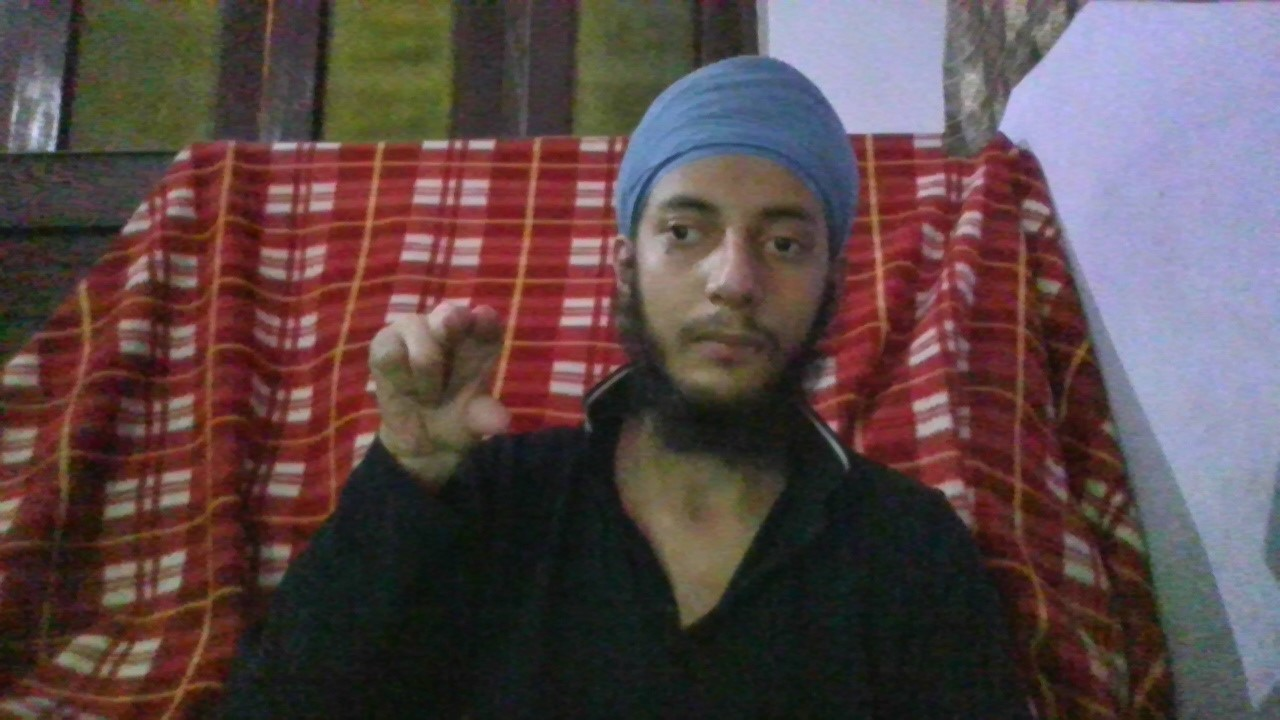No: (362, 302, 512, 450)
